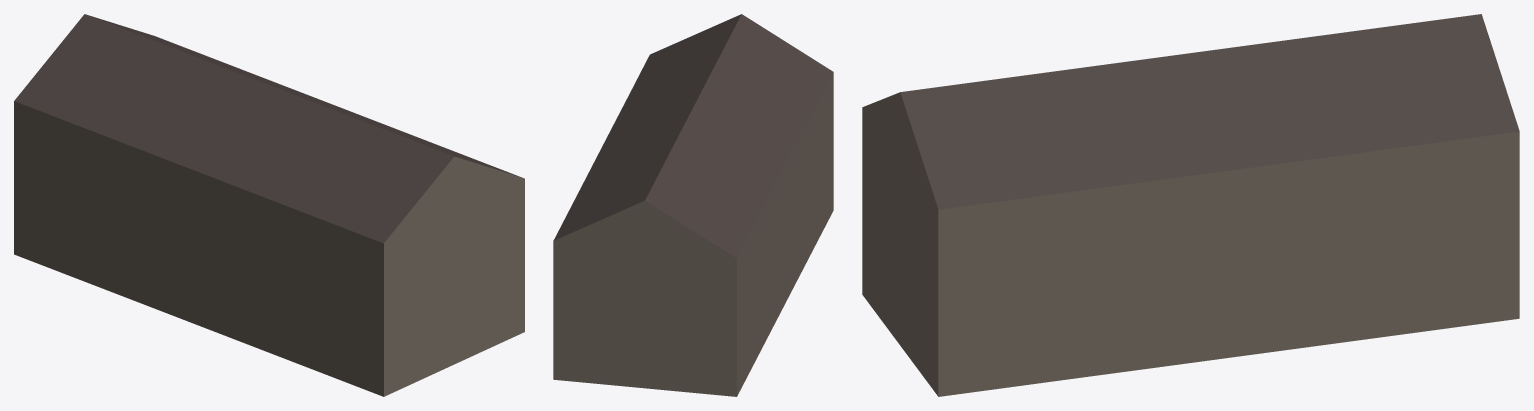
The picture shows the model from 3 angles, left to right: view 1: azimuth 30°, elevation 25°; view 2: azimuth 150°, elevation 25°; view 3: azimuth 270°, elevation 25°; orthographic projection. The views are drawn at different scales.
Visible parts, largest first — view 1: HP-w1198893549; view 2: HP-w1198893549; view 3: HP-w1198893549.
Boxes of the visible parts, box(x1,y1,x2,y2) form: HP-w1198893549: box(14, 14, 524, 396); HP-w1198893549: box(553, 14, 833, 396); HP-w1198893549: box(862, 14, 1519, 396).
Bounding box in the file's own units: 12.43 × 8.13 × 19.11.
